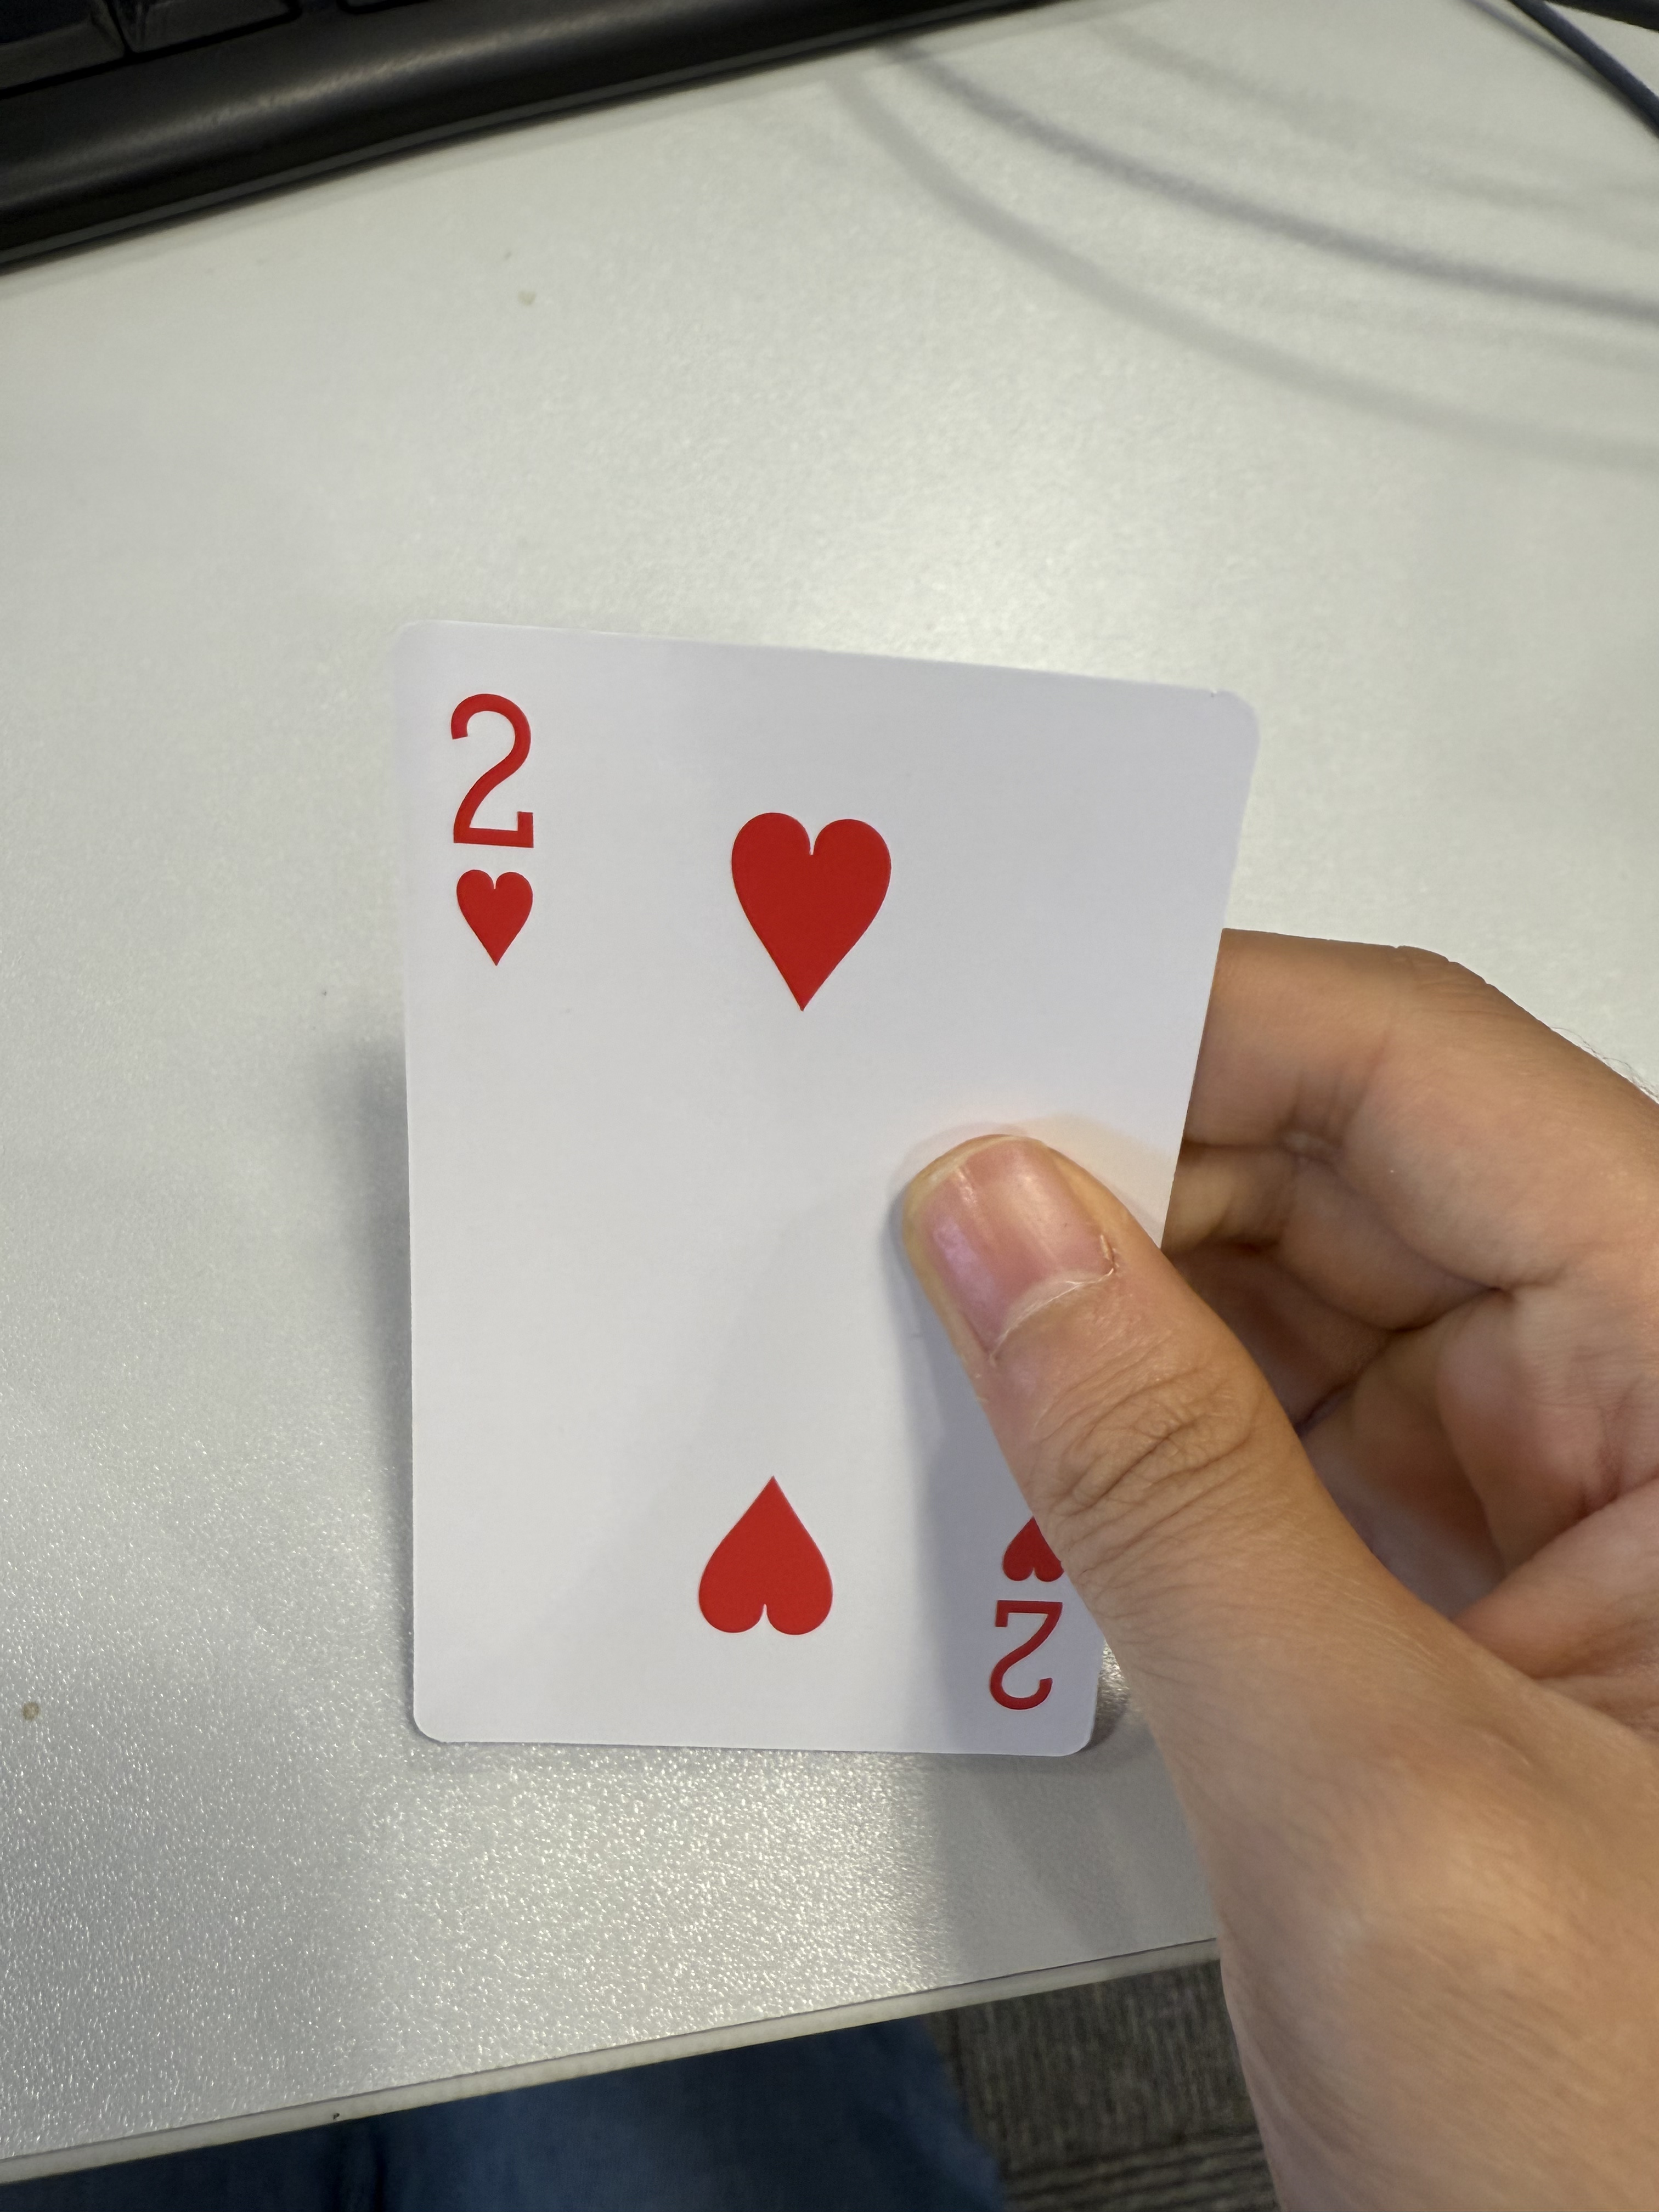poker: (383, 617, 1260, 1763)
